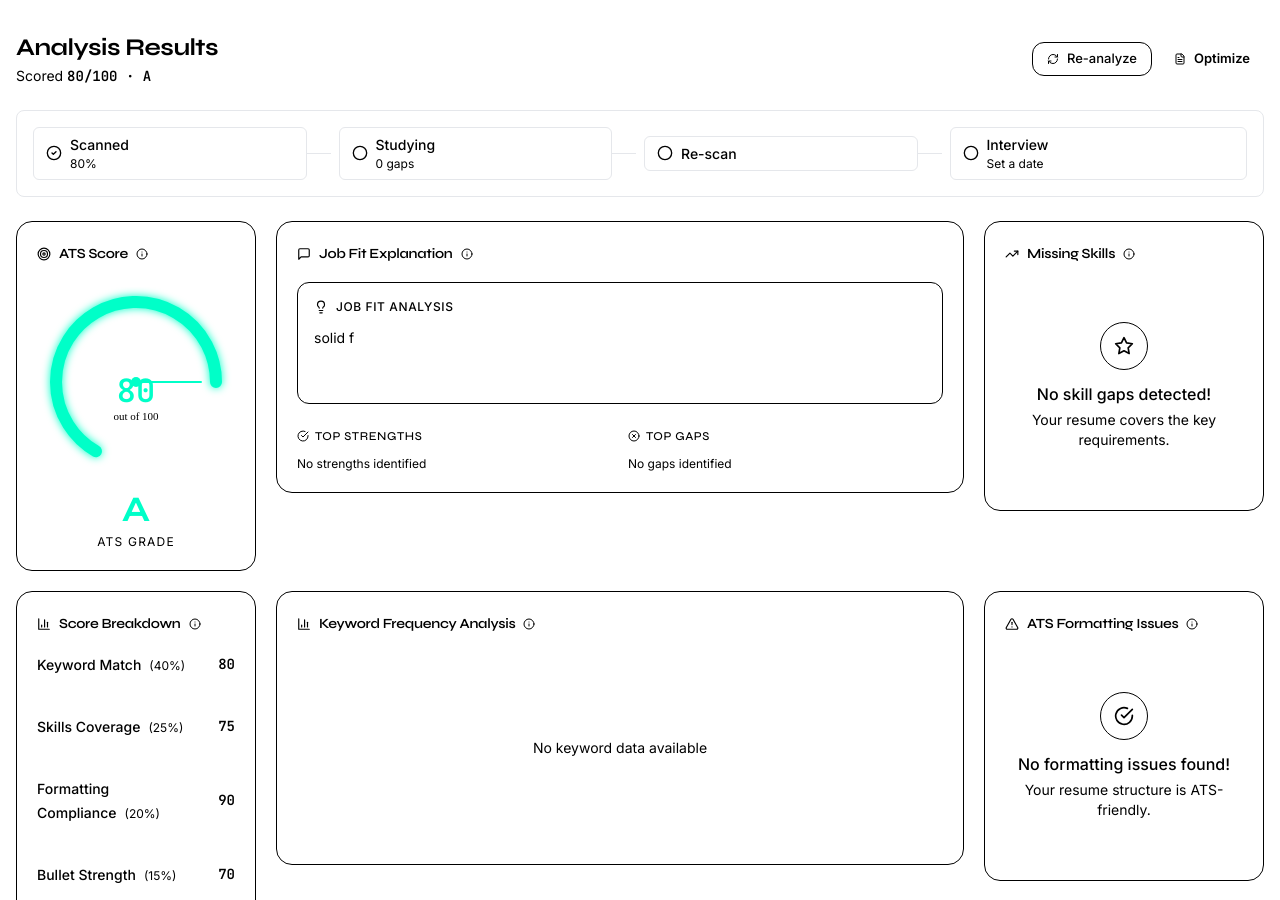
Test: Results page — Re-analyze paywall gate (spec #55, B-030) › AC-1: free user click opens PaywallModal with scan_limit copy, no navigation
What coordinates should you click on to do the following:
click the button "Re-analyze"
I would click on:
 (1092, 59)
Its box is [1032, 42, 1152, 76].
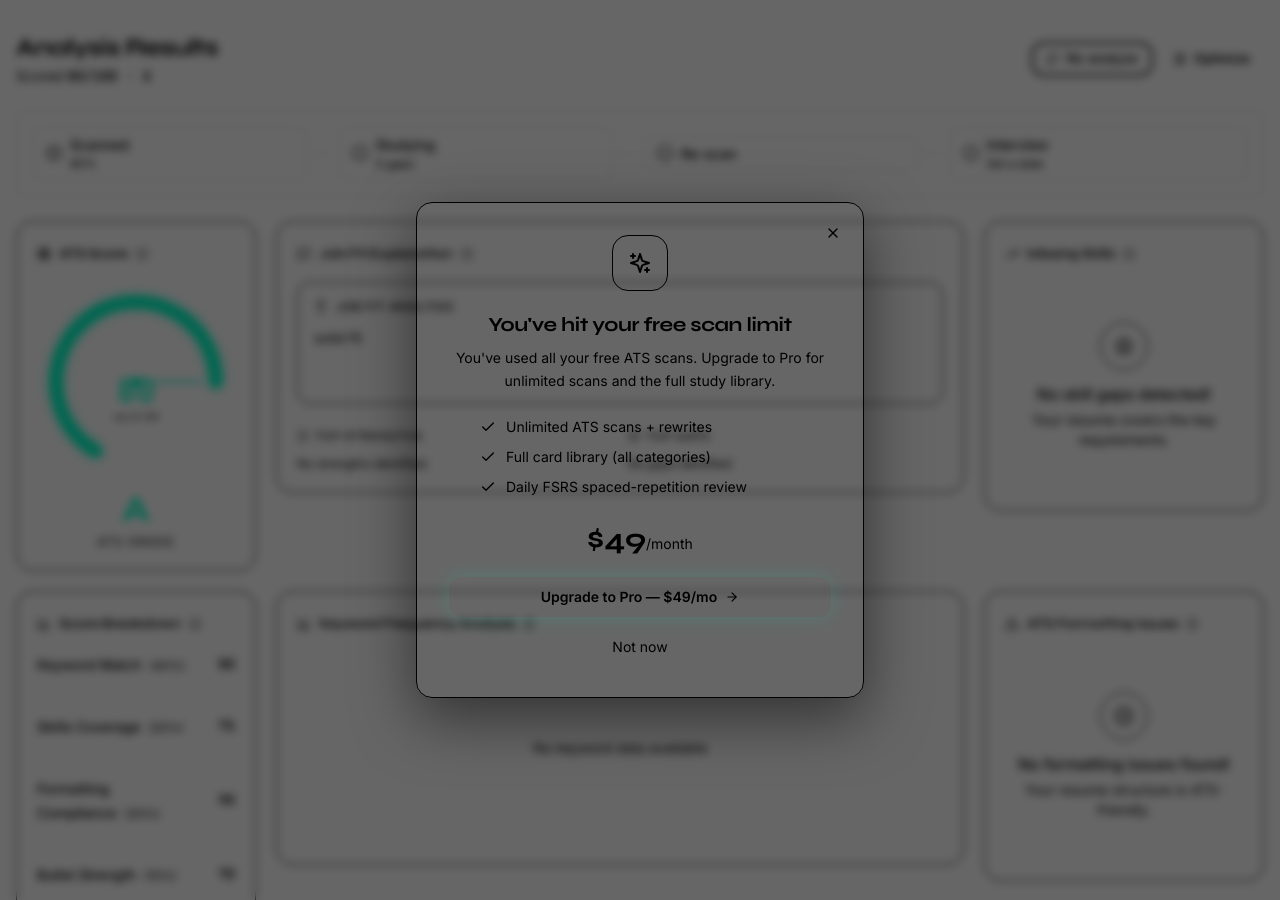
Expected: the heading "You've hit your free scan limit" is shown, [488, 312, 792, 337]
